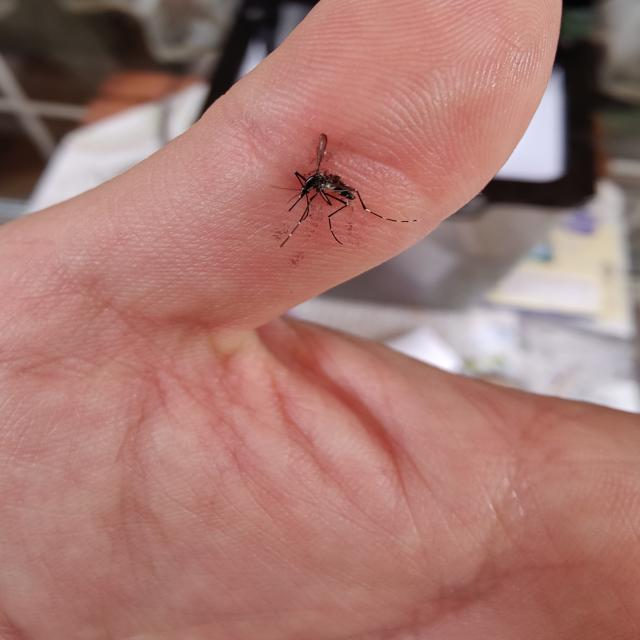albopictus: (270, 132, 410, 255)
